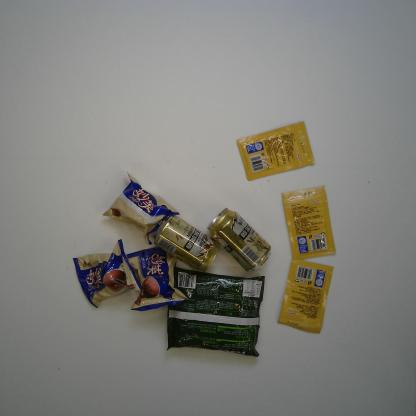Alcohol: (206, 208, 272, 273), (152, 214, 220, 273)
Dessert: (102, 171, 180, 246), (73, 238, 142, 308), (126, 246, 188, 312)
Instant Noodles: (166, 266, 266, 358)
Seasoner: (236, 121, 316, 181), (277, 257, 334, 335), (281, 184, 337, 258)
